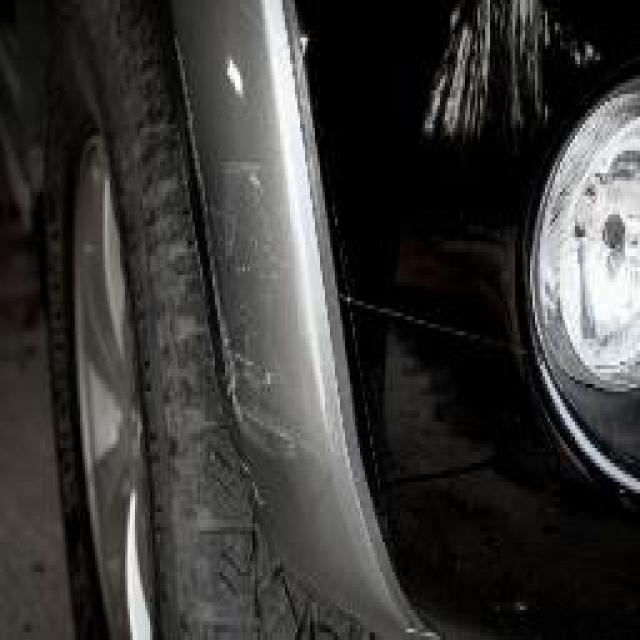Bumper: (175, 0, 612, 640)
